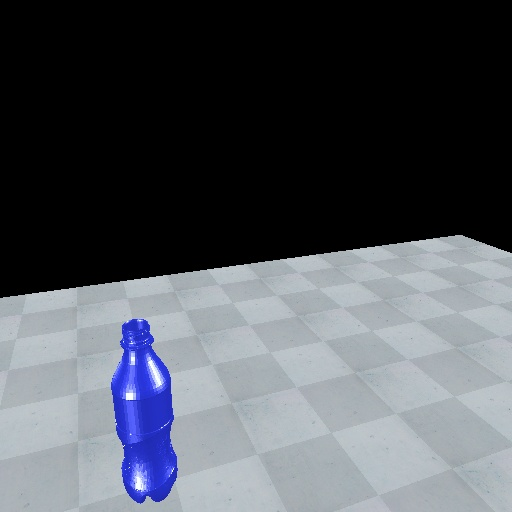bottle: (107, 315, 180, 505)
